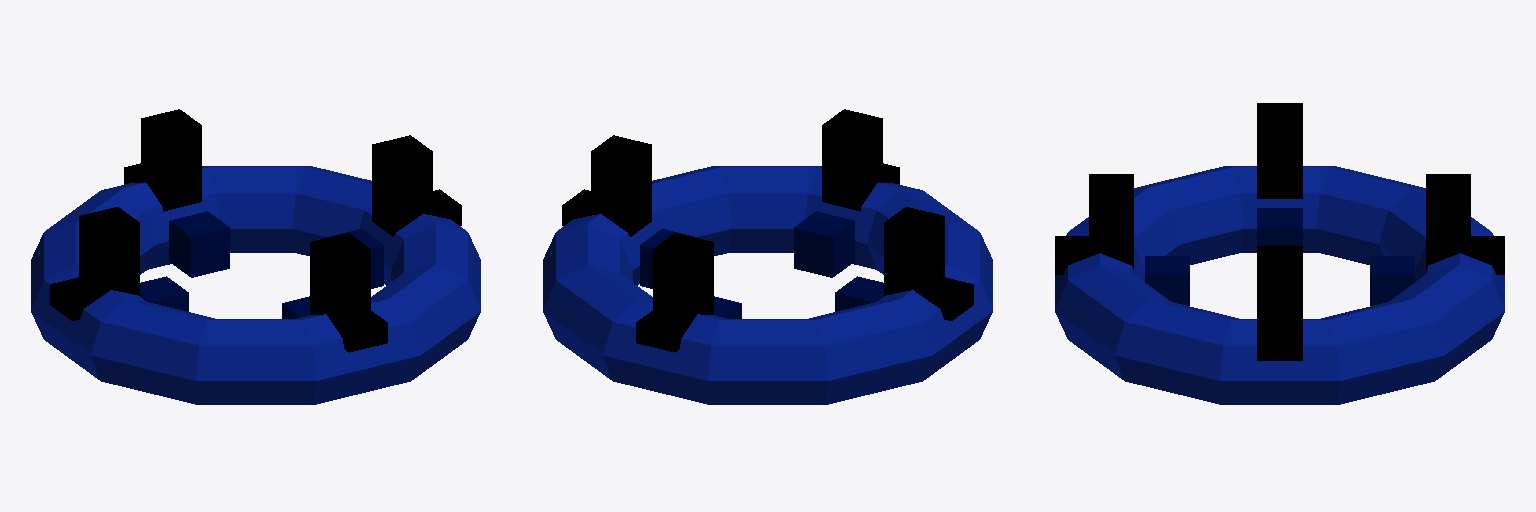
3 views of the same model, side by side, from view 1: azimuth 30°, elevation 25°; view 2: azimuth 150°, elevation 25°; view 3: azimuth 270°, elevation 25° (orthographic).
Visible parts, largest first — view 1: torus, cube.005, cube.002, cube, cube.003, cube.009, cube.004, cube.000, cube.007, cube.008, cube.001; view 2: torus, cube.003, cube.002, cube, cube.005, cube.010, cube.006, cube.000, cube.007, cube.008, cube.001; view 3: torus, cube, cube.003, cube.005, cube.002, cube.009, cube.010, cube.007, cube.001, cube.004, cube.006.
Boxes of the visible parts, x1,y1,x2,y2 form: torus: [31, 166, 480, 404]; cube.005: [141, 109, 201, 211]; cube.002: [372, 135, 432, 236]; cube: [79, 207, 139, 296]; cube.003: [310, 233, 370, 321]; cube.009: [169, 211, 229, 277]; cube.004: [331, 311, 387, 352]; cube.000: [50, 277, 100, 320]; cube.007: [140, 276, 188, 311]; cube.008: [323, 229, 383, 288]; cube.001: [427, 189, 461, 225]; torus: [543, 166, 992, 404]; cube.003: [822, 109, 882, 211]; cube.002: [591, 135, 651, 236]; cube: [884, 207, 944, 296]; cube.005: [653, 233, 713, 320]; cube.010: [794, 211, 854, 277]; cube.006: [636, 311, 694, 352]; cube.000: [923, 277, 973, 320]; cube.007: [835, 276, 883, 311]; cube.008: [640, 229, 700, 288]; cube.001: [562, 189, 596, 225]; torus: [1055, 166, 1504, 404]; cube: [1257, 103, 1302, 198]; cube.003: [1089, 174, 1133, 269]; cube.005: [1426, 174, 1470, 269]; cube.002: [1257, 246, 1302, 325]; cube.009: [1370, 256, 1414, 305]; cube.010: [1145, 256, 1189, 305]; cube.007: [1257, 208, 1302, 245]; cube.001: [1257, 326, 1302, 360]; cube.004: [1055, 236, 1093, 274]; cube.006: [1466, 236, 1504, 274].
Bounding box in the file's own units: 1.25 × 0.4419 × 1.25.
Materials: 1 (1 with a texture image).